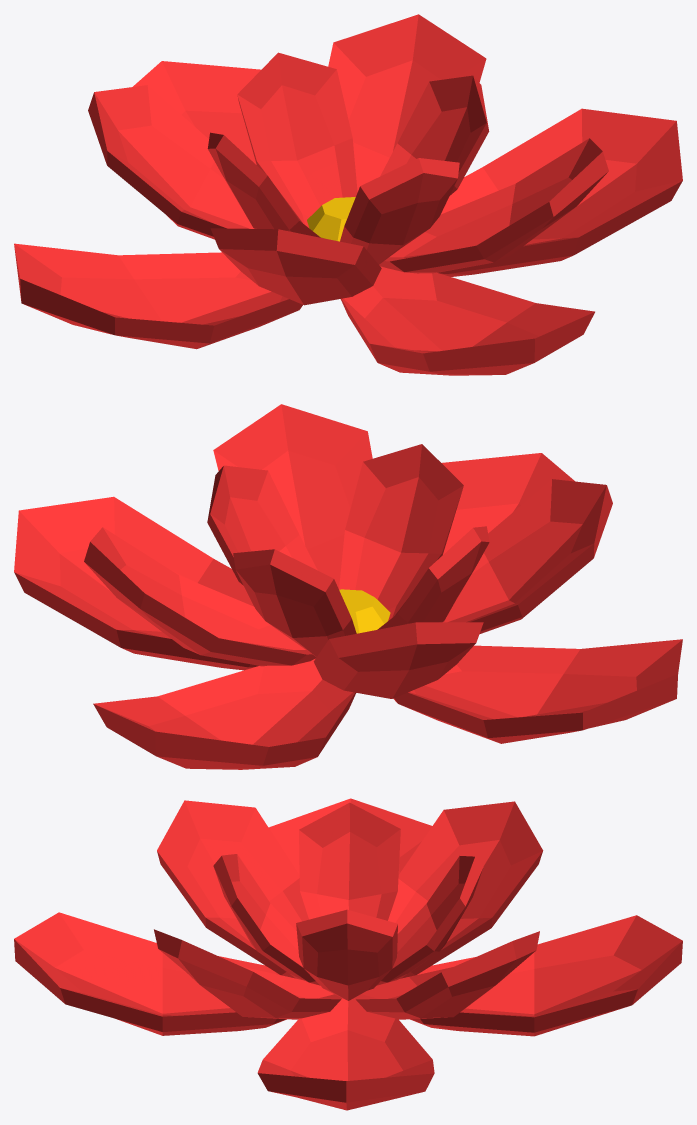
The model's file is Flower.gltf.
3 views of the same model, one above another, from view 1: azimuth 30°, elevation 25°; view 2: azimuth 150°, elevation 25°; view 3: azimuth 270°, elevation 25° (orthographic). The views are drawn at different scales.
Parts seen in each view (by area): view 1: center; view 2: center; view 3: center.
Part boxes in pixels (<box>): center: <box>14,14,682,375</box>; center: <box>14,404,682,769</box>; center: <box>14,798,682,1110</box>.
Size of the model in its own units: 41.24 by 11.69 by 41.24.
